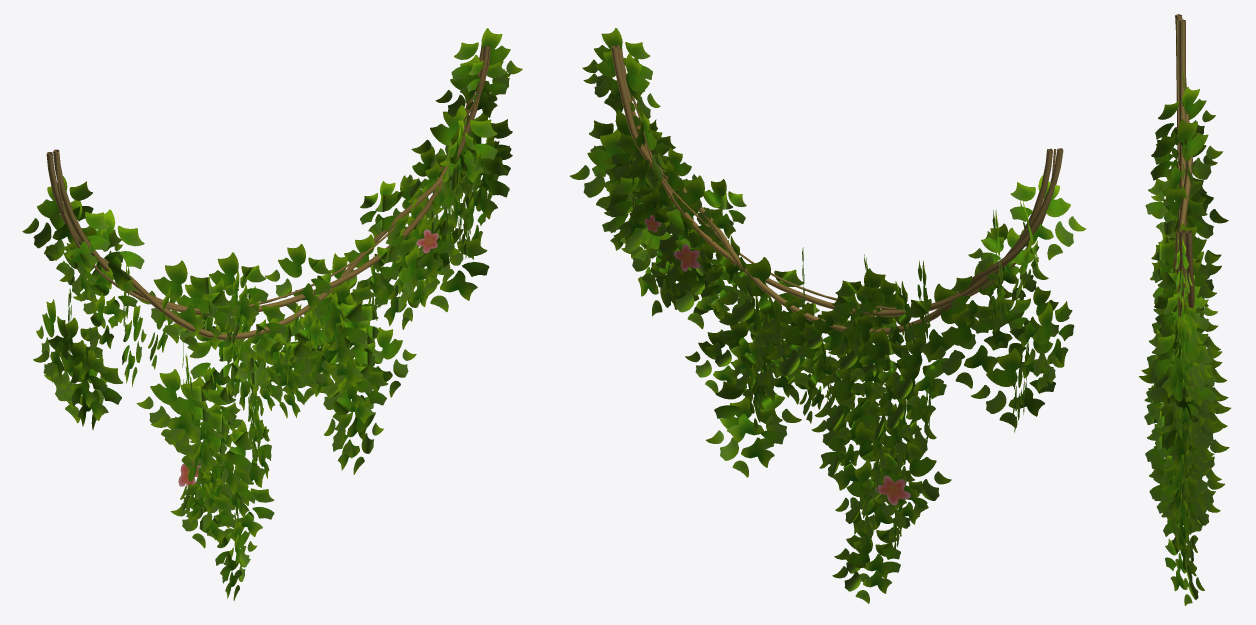
Rendered from P_IvyCoastalVine07.obj.
3 renders of one model, left to right at view 1: azimuth 30°, elevation 25°; view 2: azimuth 150°, elevation 25°; view 3: azimuth 270°, elevation 25°, orthographic.
Size of the model in its own units: 10.65 by 10.45 by 2.08.
